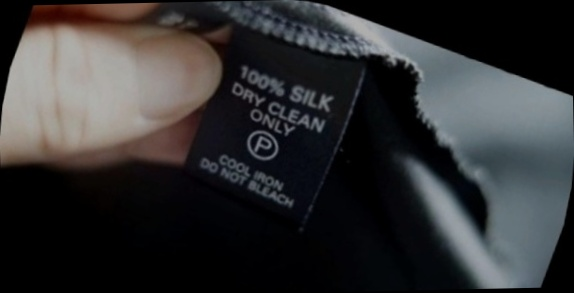dry_clean_any_solvent_except_trichloroethylene: (241, 123, 287, 167)
